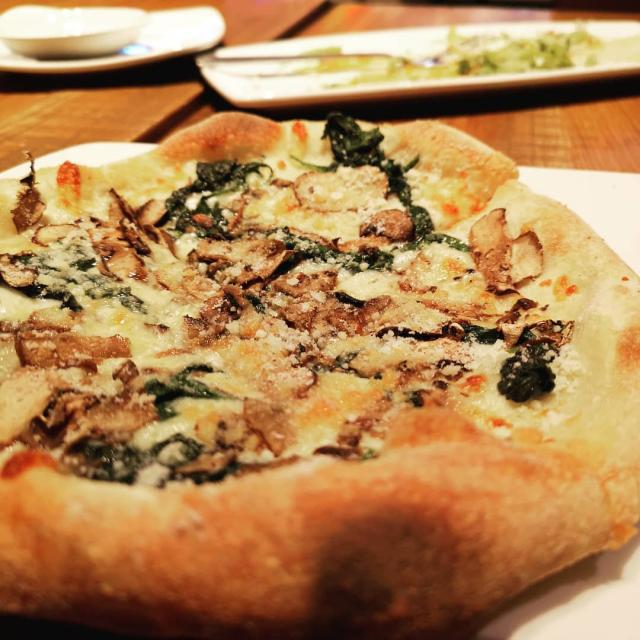mushrooms: (196, 246, 377, 341), (20, 385, 160, 472), (188, 400, 298, 480), (88, 190, 177, 286), (469, 207, 542, 290), (20, 316, 126, 371), (496, 301, 565, 348), (352, 202, 416, 248), (15, 172, 46, 222), (3, 248, 38, 290)
pizza: (0, 112, 640, 640)
